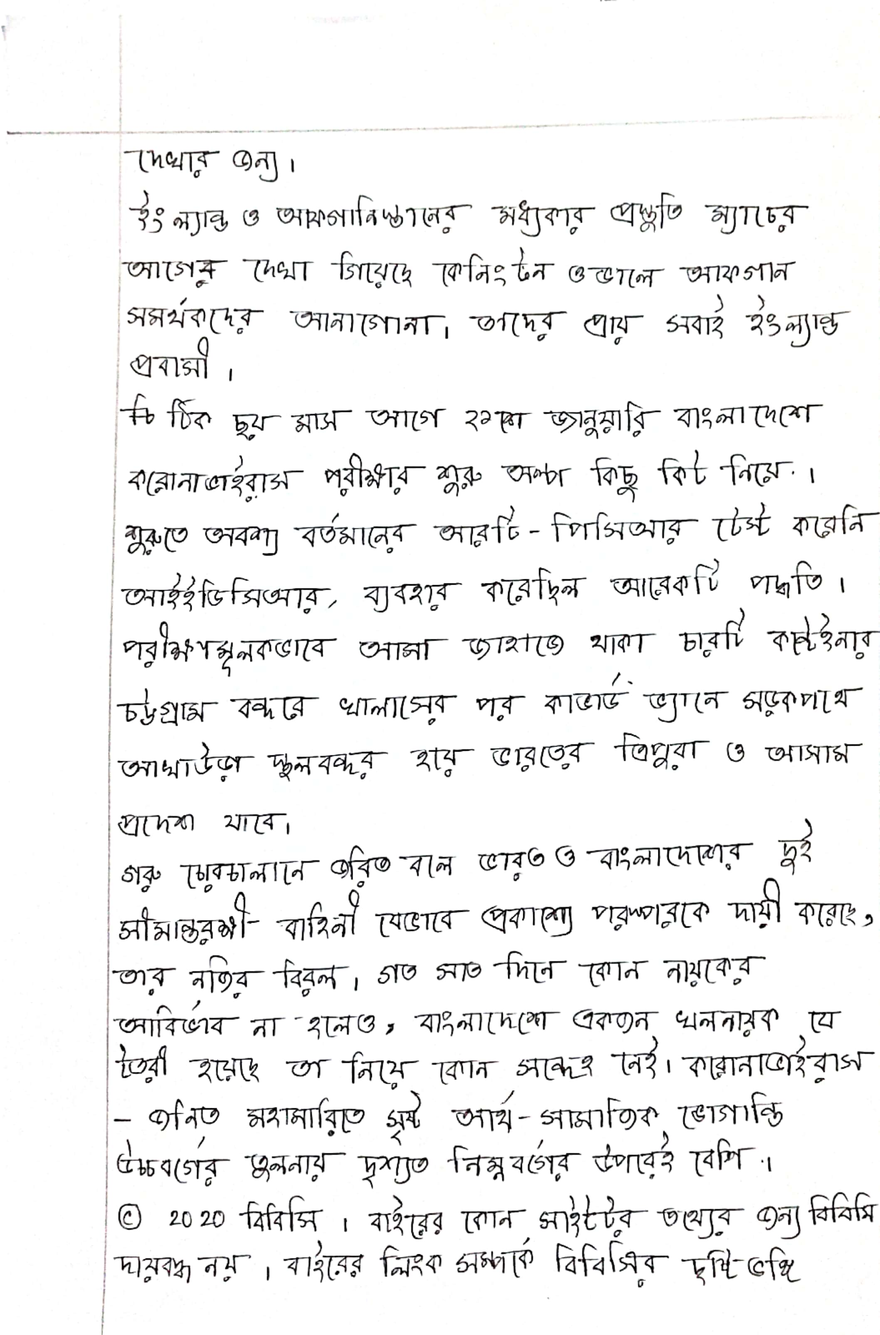line: (118, 602, 874, 681), (99, 817, 848, 895), (116, 553, 855, 621), (115, 437, 827, 505), (110, 1031, 877, 1094), (118, 728, 877, 791), (101, 1183, 880, 1244), (104, 891, 877, 952), (106, 671, 868, 732), (108, 386, 846, 448), (100, 1131, 789, 1196), (104, 1235, 813, 1294), (124, 506, 880, 561), (115, 297, 860, 351), (116, 236, 809, 294), (93, 946, 764, 1002), (111, 187, 828, 238), (104, 999, 846, 1046), (100, 1087, 798, 1135), (118, 792, 302, 849), (122, 140, 309, 187), (116, 332, 250, 386)
